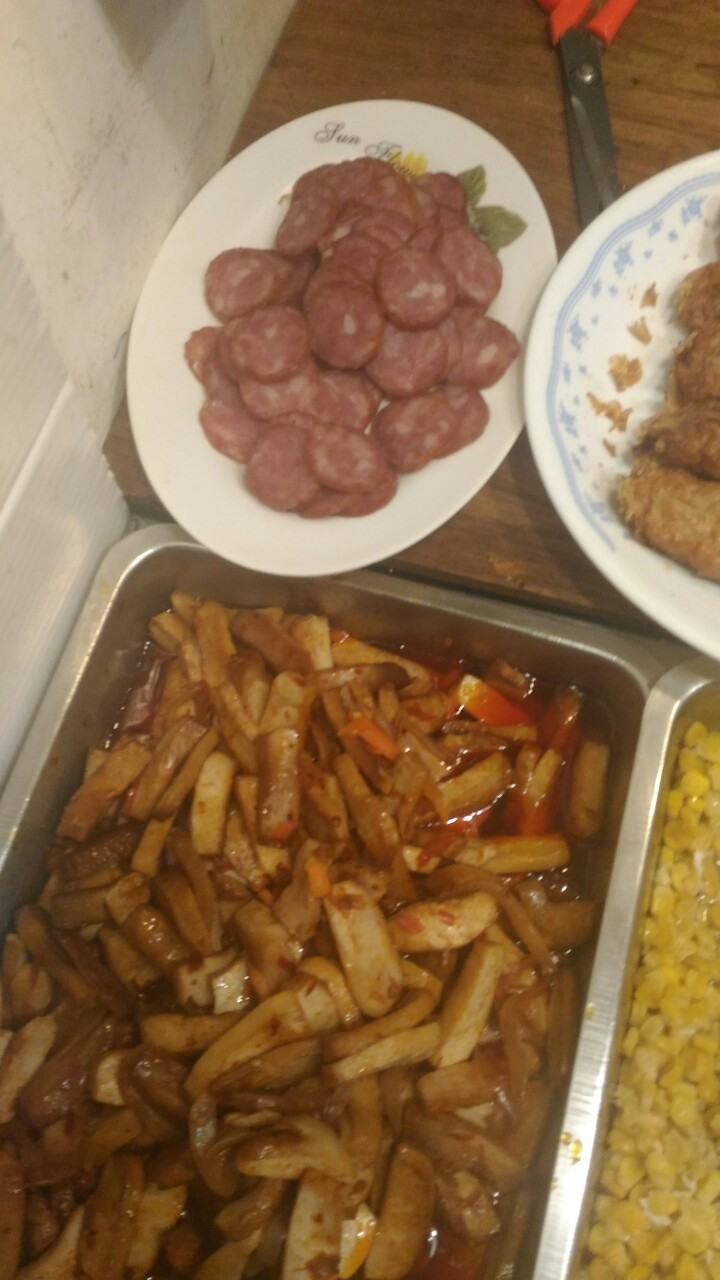chinese_sausage: (200, 159, 497, 517)
